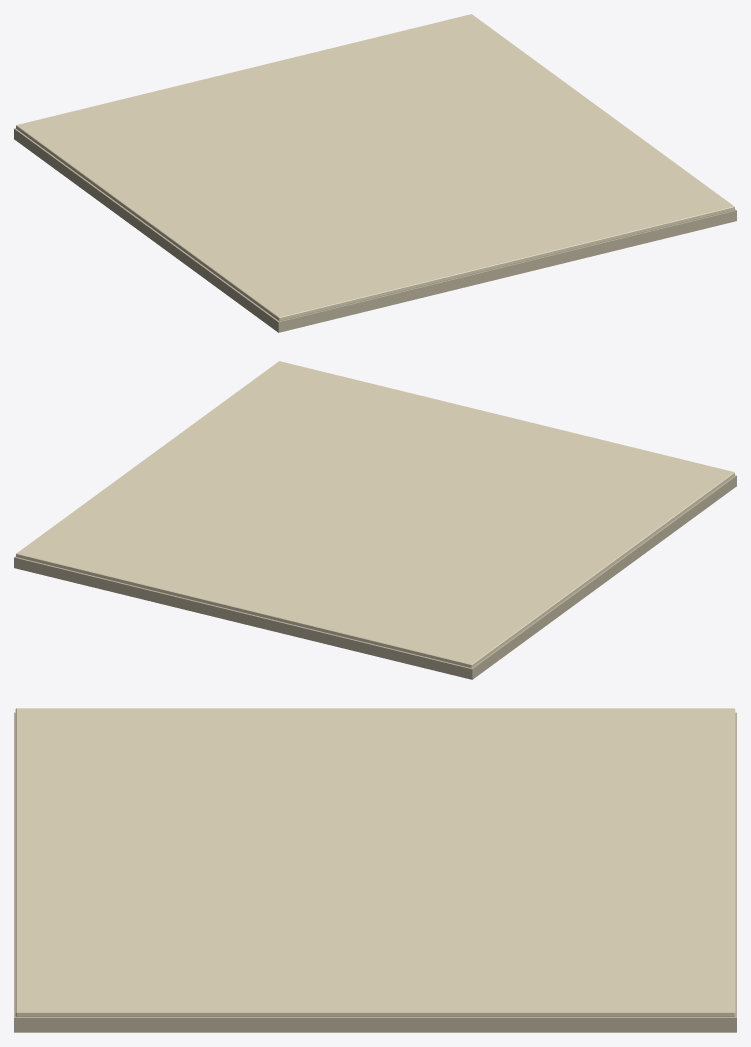
File: floor_light_tile.glb
3 renders of one model, top to bottom at view 1: azimuth 30°, elevation 25°; view 2: azimuth 150°, elevation 25°; view 3: azimuth 270°, elevation 25°, orthographic. The views are drawn at different scales.
Visible parts, largest first — view 1: floor_light_tile__tile_cream, floor_light_tile__tile_grout; view 2: floor_light_tile__tile_cream, floor_light_tile__tile_grout; view 3: floor_light_tile__tile_cream, floor_light_tile__tile_grout.
Boxes of the visible parts, x1,y1,x2,y2 form: floor_light_tile__tile_cream: (16,14,734,321); floor_light_tile__tile_grout: (14,128,736,332); floor_light_tile__tile_cream: (16,361,734,668); floor_light_tile__tile_grout: (14,475,736,679); floor_light_tile__tile_cream: (15,708,735,1016); floor_light_tile__tile_grout: (14,712,736,1032).
Size of the model in its own units: 1 by 0.03 by 1.
